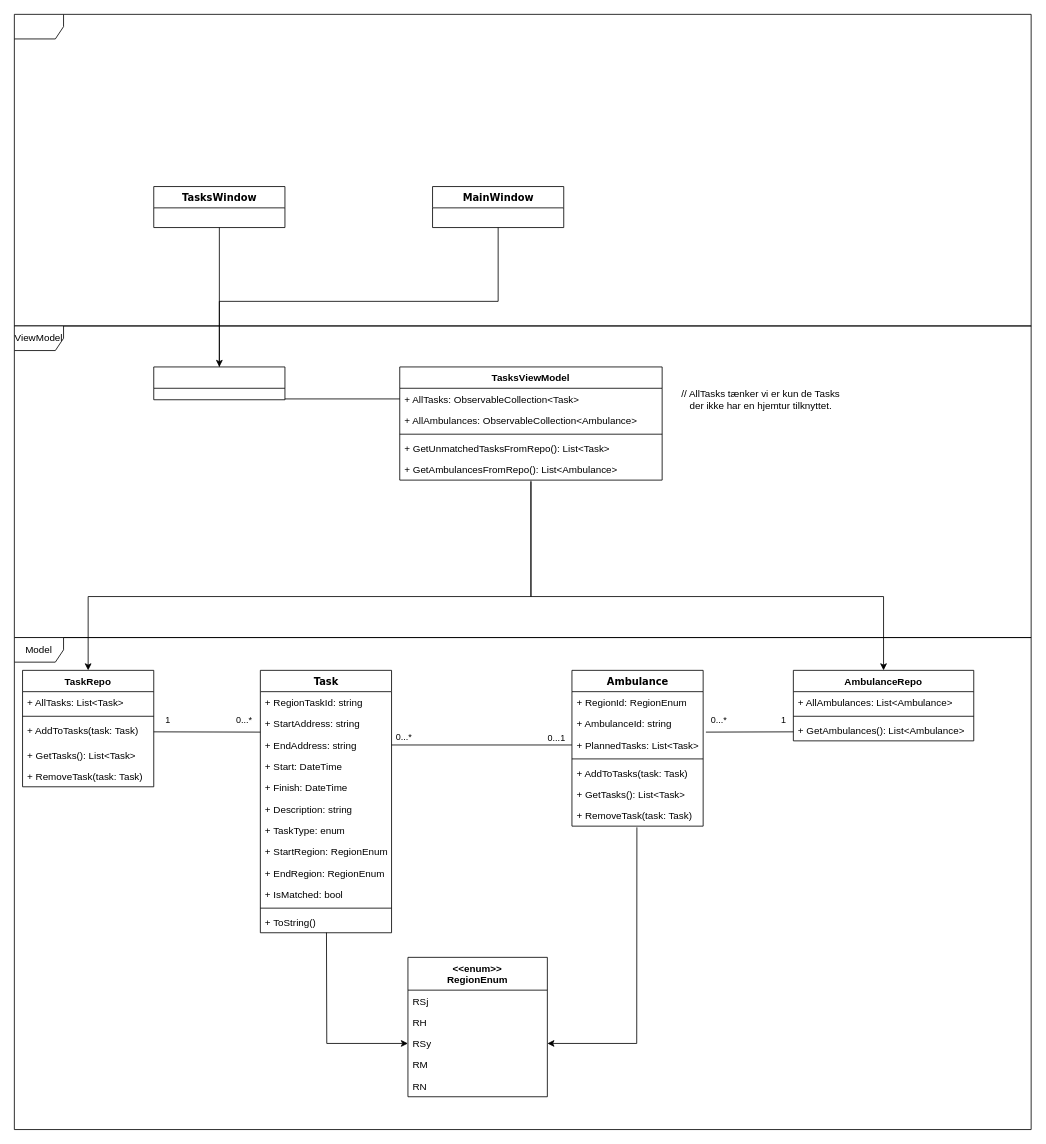
This 1046x1144 diagram has some shape labels left out. The centre of each missing label's shape, as x and y in pixels:
MainViewModel: pixel 219 383
View: pixel 522 170
